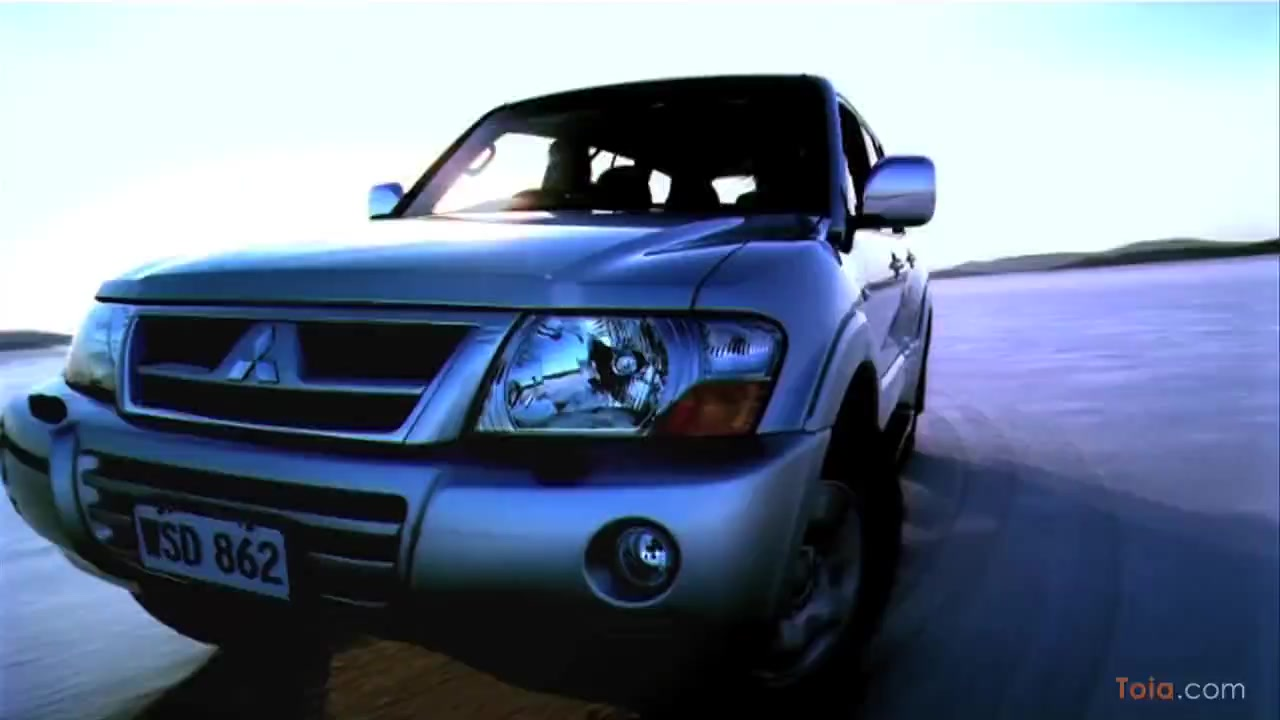car: (1, 75, 940, 697)
